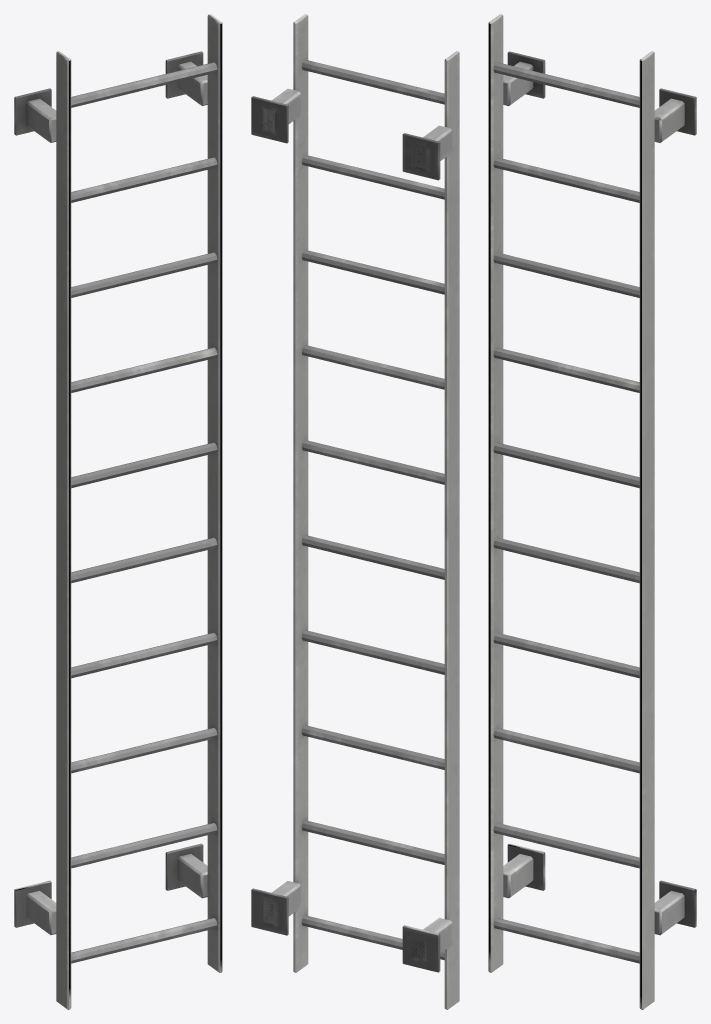
File: ladder.glb
3 views of the same model, side by side, from view 1: azimuth 30°, elevation 25°; view 2: azimuth 150°, elevation 25°; view 3: azimuth 330°, elevation 25° (orthographic).
Visible parts, largest first — view 1: ladder; view 2: ladder; view 3: ladder.
Part boxes in pixels (box(x1,y1,x2,y2)): ladder: box(14, 14, 222, 1009); ladder: box(251, 14, 459, 1009); ladder: box(488, 14, 696, 1009).
Bounding box in the file's own units: 0.62 × 3 × 0.215.
Materials: 1 (1 with a texture image).
